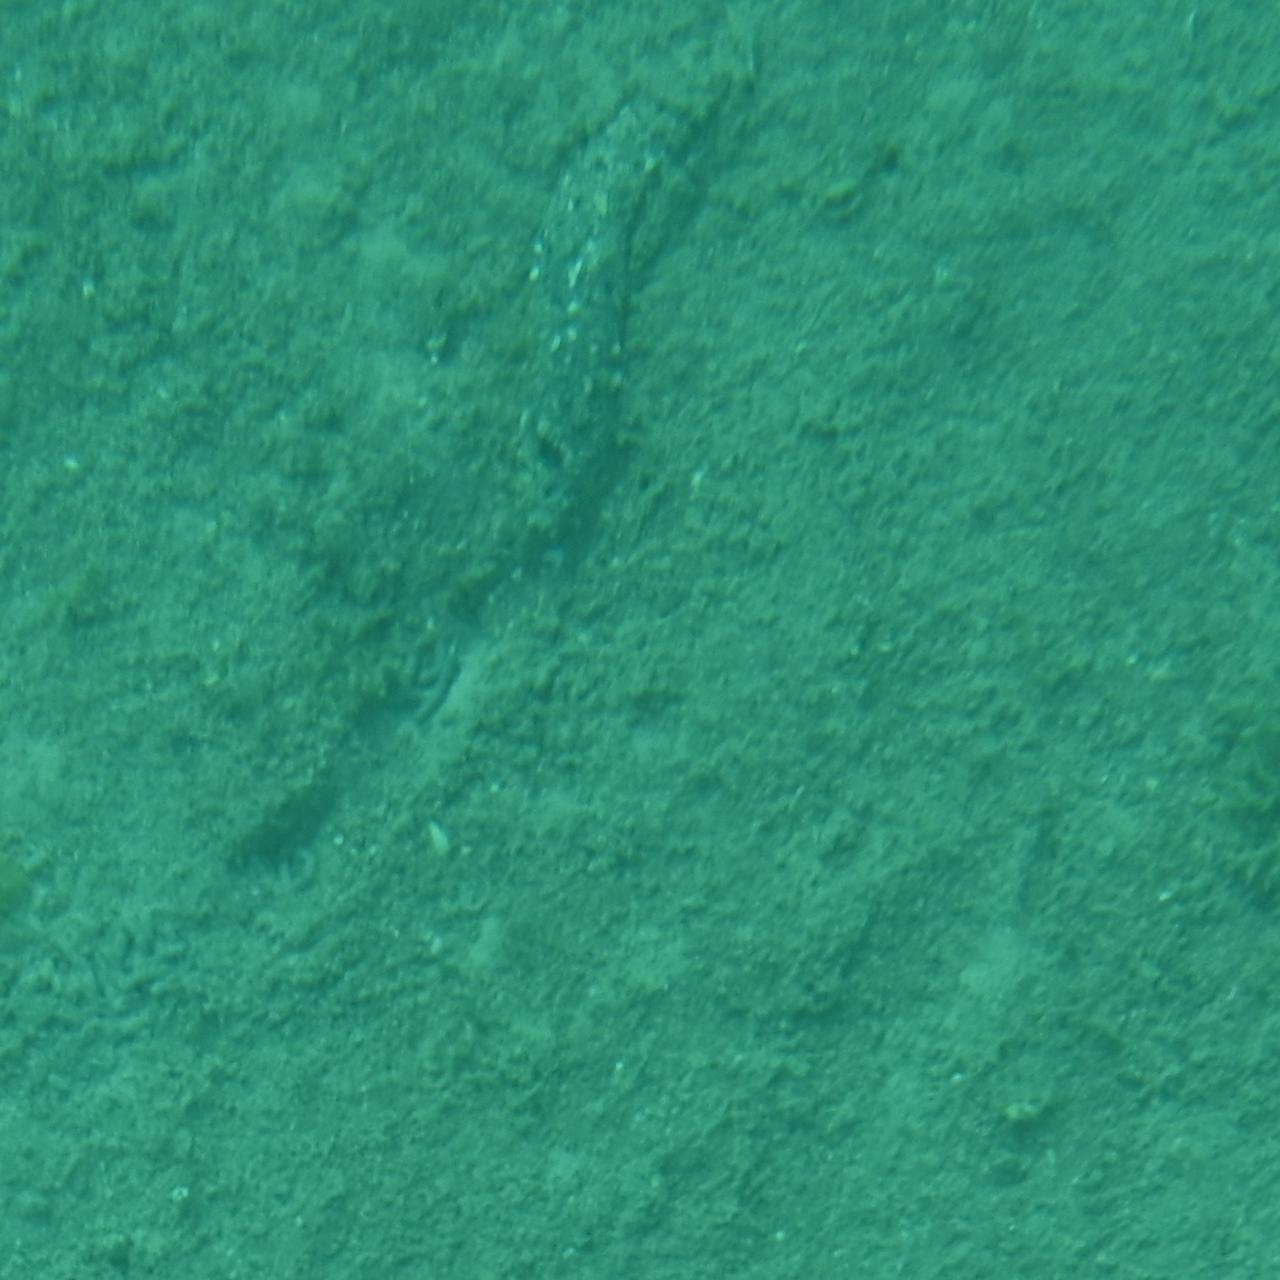Holothuria tubulosa: (496, 12, 784, 590)
